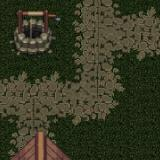Hide: (0, 0, 73, 71)
